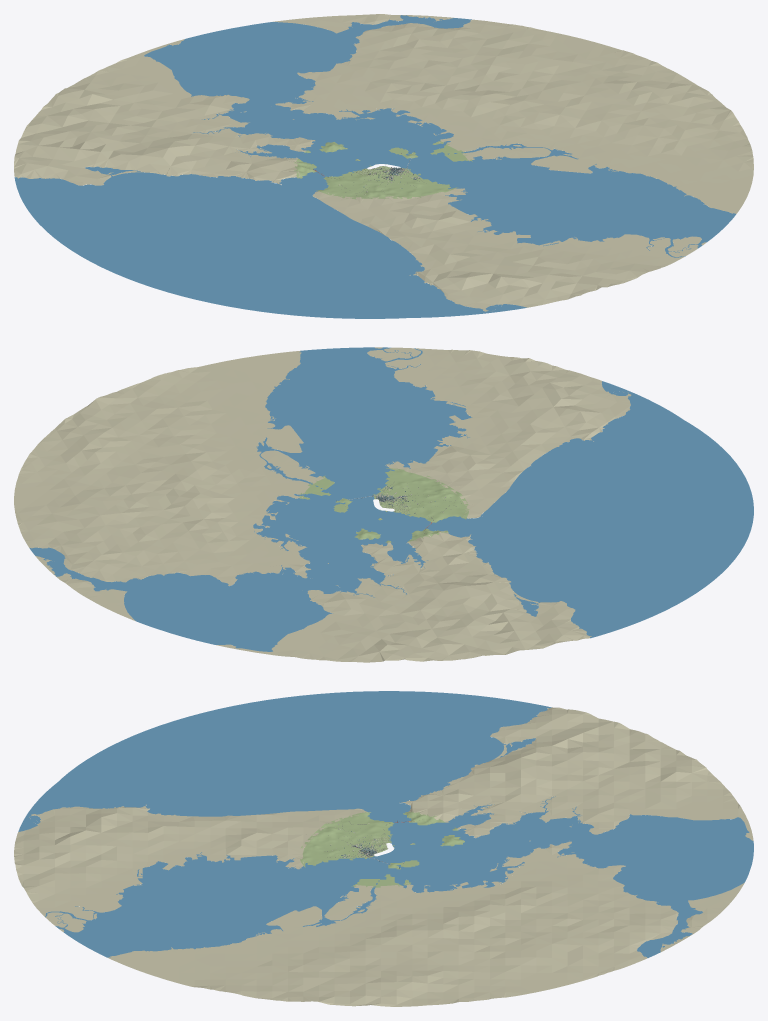
Rendered from backdrop.glb.
3 views of the same model, one above another, from view 1: azimuth 30°, elevation 25°; view 2: azimuth 150°, elevation 25°; view 3: azimuth 270°, elevation 25° (orthographic).
Visible parts, largest first — view 1: backdrop_horizon_land, backdrop_horizon_water, backdrop_water, backdrop_terrain_grass; view 2: backdrop_horizon_land, backdrop_horizon_water, backdrop_water, backdrop_terrain_grass; view 3: backdrop_horizon_land, backdrop_horizon_water, backdrop_water, backdrop_terrain_grass.
Boxes of the visible parts, x1,y1,x2,y2 form: backdrop_horizon_land: [14, 14, 753, 311]; backdrop_horizon_water: [14, 15, 736, 318]; backdrop_water: [301, 134, 470, 189]; backdrop_terrain_grass: [294, 141, 472, 199]; backdrop_horizon_land: [14, 347, 631, 662]; backdrop_horizon_water: [29, 347, 753, 651]; backdrop_water: [302, 469, 462, 541]; backdrop_terrain_grass: [299, 468, 469, 542]; backdrop_horizon_land: [14, 707, 753, 1006]; backdrop_horizon_water: [18, 691, 753, 957]; backdrop_water: [305, 813, 464, 884]; backdrop_terrain_grass: [300, 811, 464, 887].
Bounding box in the file's own units: 72483 × 708 × 71444.
